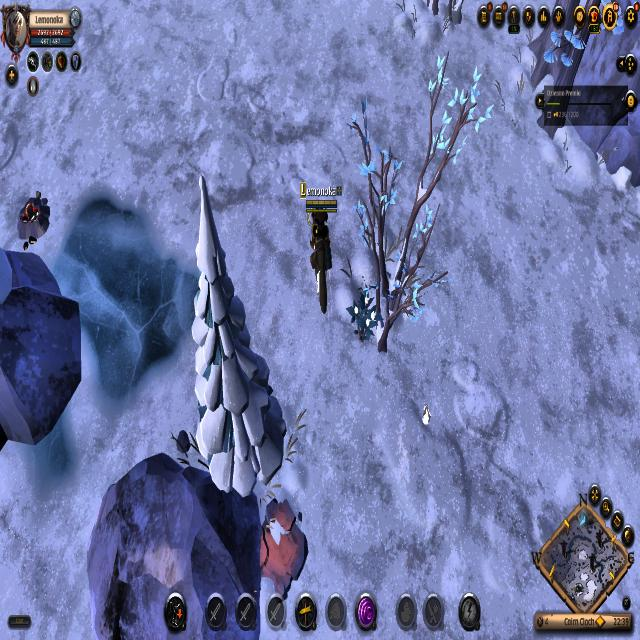fiber tier 4: (352, 294, 384, 355)
